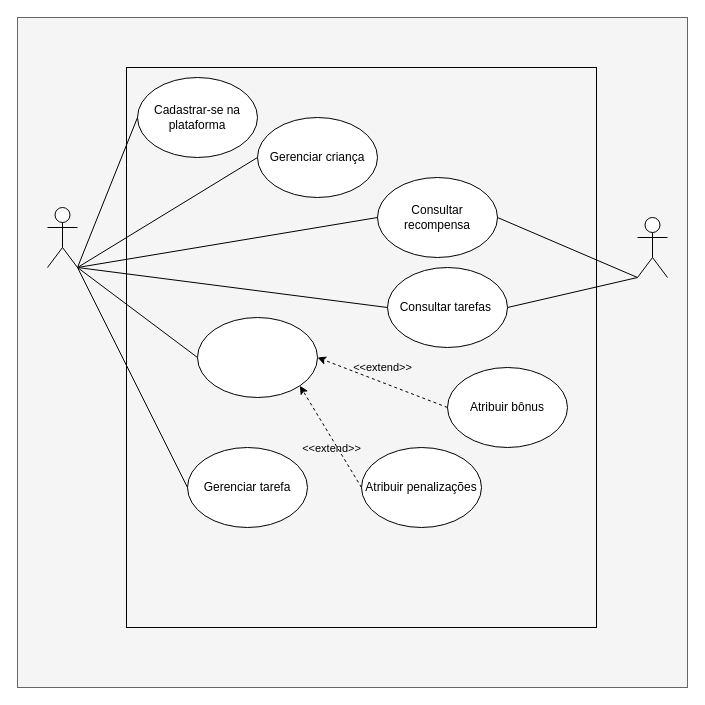
Some shapes in this 705 by 705 pixel diagram are drawn without their labels. Each missing label, with the centre of its shape:
"Criança" goes at point (652, 247).
"Gerenciar valor mensal total" goes at point (257, 357).
"Responsável" goes at point (62, 237).
